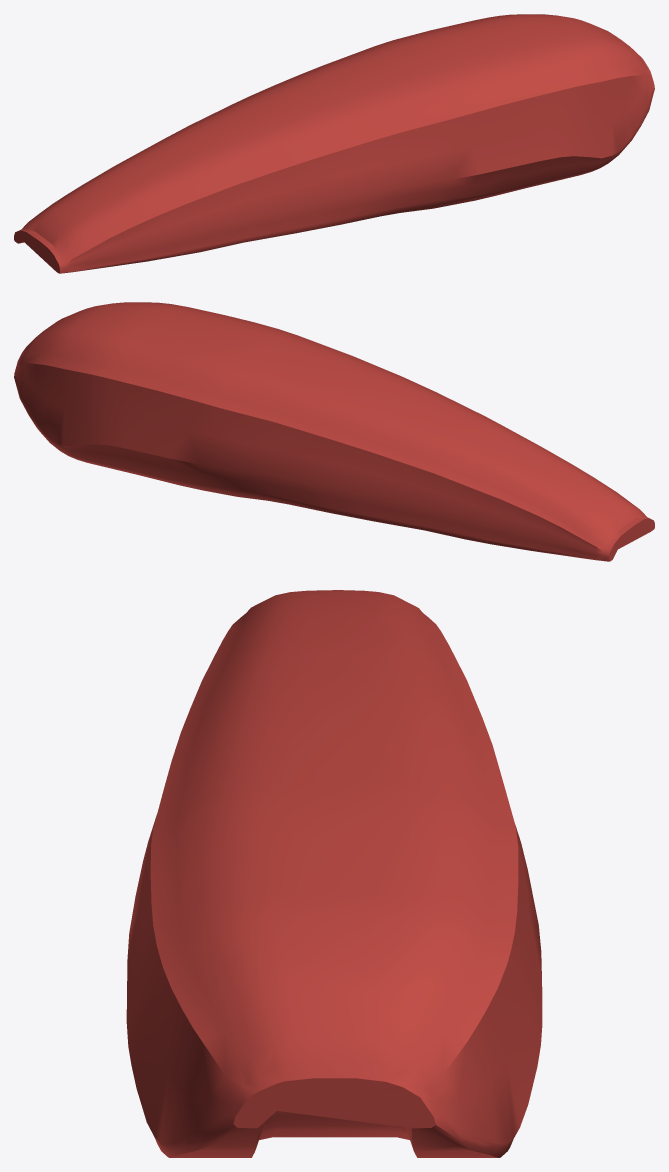
The model's file is bobber_1_lod2.glb.
3 renders of one model, top to bottom at view 1: azimuth 30°, elevation 25°; view 2: azimuth 150°, elevation 25°; view 3: azimuth 270°, elevation 25°, orthographic. The views are drawn at different scales.
Visible parts, largest first — view 1: bobber_1_lod2; view 2: bobber_1_lod2; view 3: bobber_1_lod2.
Part boxes in pixels (x1,y1,x2,y2): bobber_1_lod2: (14, 14, 654, 273); bobber_1_lod2: (14, 302, 654, 561); bobber_1_lod2: (126, 590, 542, 1157).
Bounding box in the file's own units: 1.06 × 0.2002 × 0.3234.
